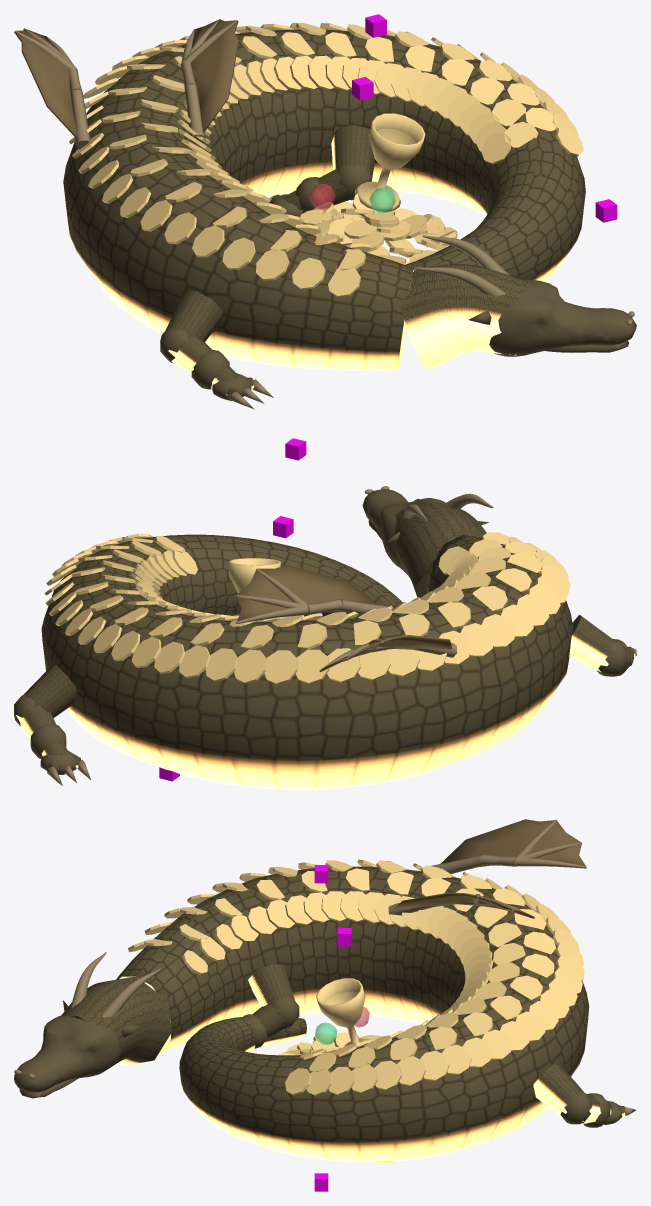
The model's file is 01_tesorino_drago_custode.glb.
3 renders of one model, top to bottom at view 1: azimuth 30°, elevation 25°; view 2: azimuth 150°, elevation 25°; view 3: azimuth 270°, elevation 25°, orthographic. The views are drawn at different scales.
Visible parts, largest first — view 1: Tesorino__Squame, Tesorino__Monete_Oro, Tesorino__Ali_Ripiegate, Tesorino__Corna; view 2: Tesorino__Squame, Tesorino__Monete_Oro, Tesorino__Ali_Ripiegate, Tesorino__Corna; view 3: Tesorino__Squame, Tesorino__Monete_Oro, Tesorino__Ali_Ripiegate, Tesorino__Corna.
Boxes of the visible parts, x1,y1,x2,y2 form: Tesorino__Squame: (63, 29, 636, 401); Tesorino__Monete_Oro: (69, 23, 583, 297); Tesorino__Ali_Ripiegate: (14, 19, 238, 145); Tesorino__Corna: (14, 19, 634, 409); Tesorino__Squame: (14, 489, 635, 790); Tesorino__Monete_Oro: (44, 532, 570, 684); Tesorino__Ali_Ripiegate: (236, 565, 452, 671); Tesorino__Corna: (47, 486, 636, 785); Tesorino__Squame: (14, 866, 625, 1162); Tesorino__Monete_Oro: (128, 859, 584, 1095); Tesorino__Ali_Ripiegate: (393, 819, 585, 918); Tesorino__Corna: (14, 819, 636, 1115).
Size of the model in its own units: 3.37 by 1.62 by 4.03.
Materials: 8 (1 with a texture image).
